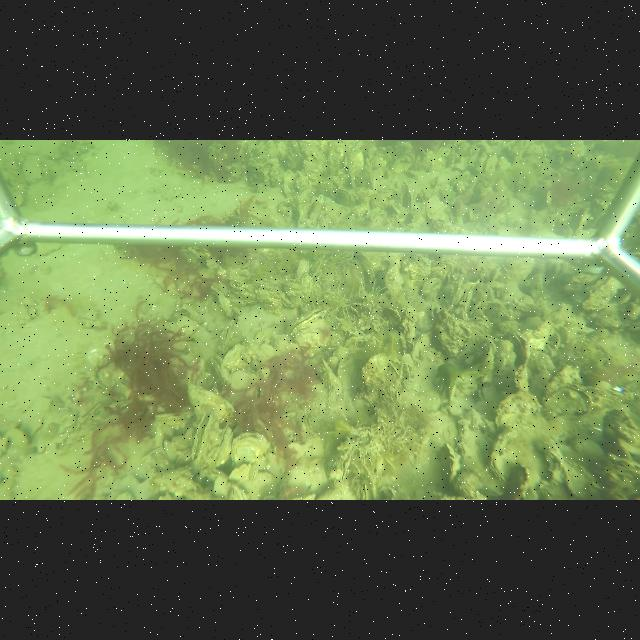Oyster-Closed: (186, 382, 238, 423), (435, 307, 473, 359), (494, 389, 540, 429), (358, 350, 392, 399), (488, 430, 517, 484), (229, 430, 271, 467), (331, 441, 358, 494), (502, 328, 532, 368), (208, 424, 234, 470), (440, 441, 463, 488), (293, 185, 316, 229), (220, 341, 251, 370), (346, 141, 365, 188), (355, 252, 377, 291), (383, 262, 404, 302), (215, 321, 236, 357), (225, 276, 255, 301), (425, 196, 447, 222), (318, 177, 338, 201), (403, 180, 413, 215)
Oyster-Open: (540, 380, 594, 421), (191, 414, 215, 467), (286, 308, 327, 337)
